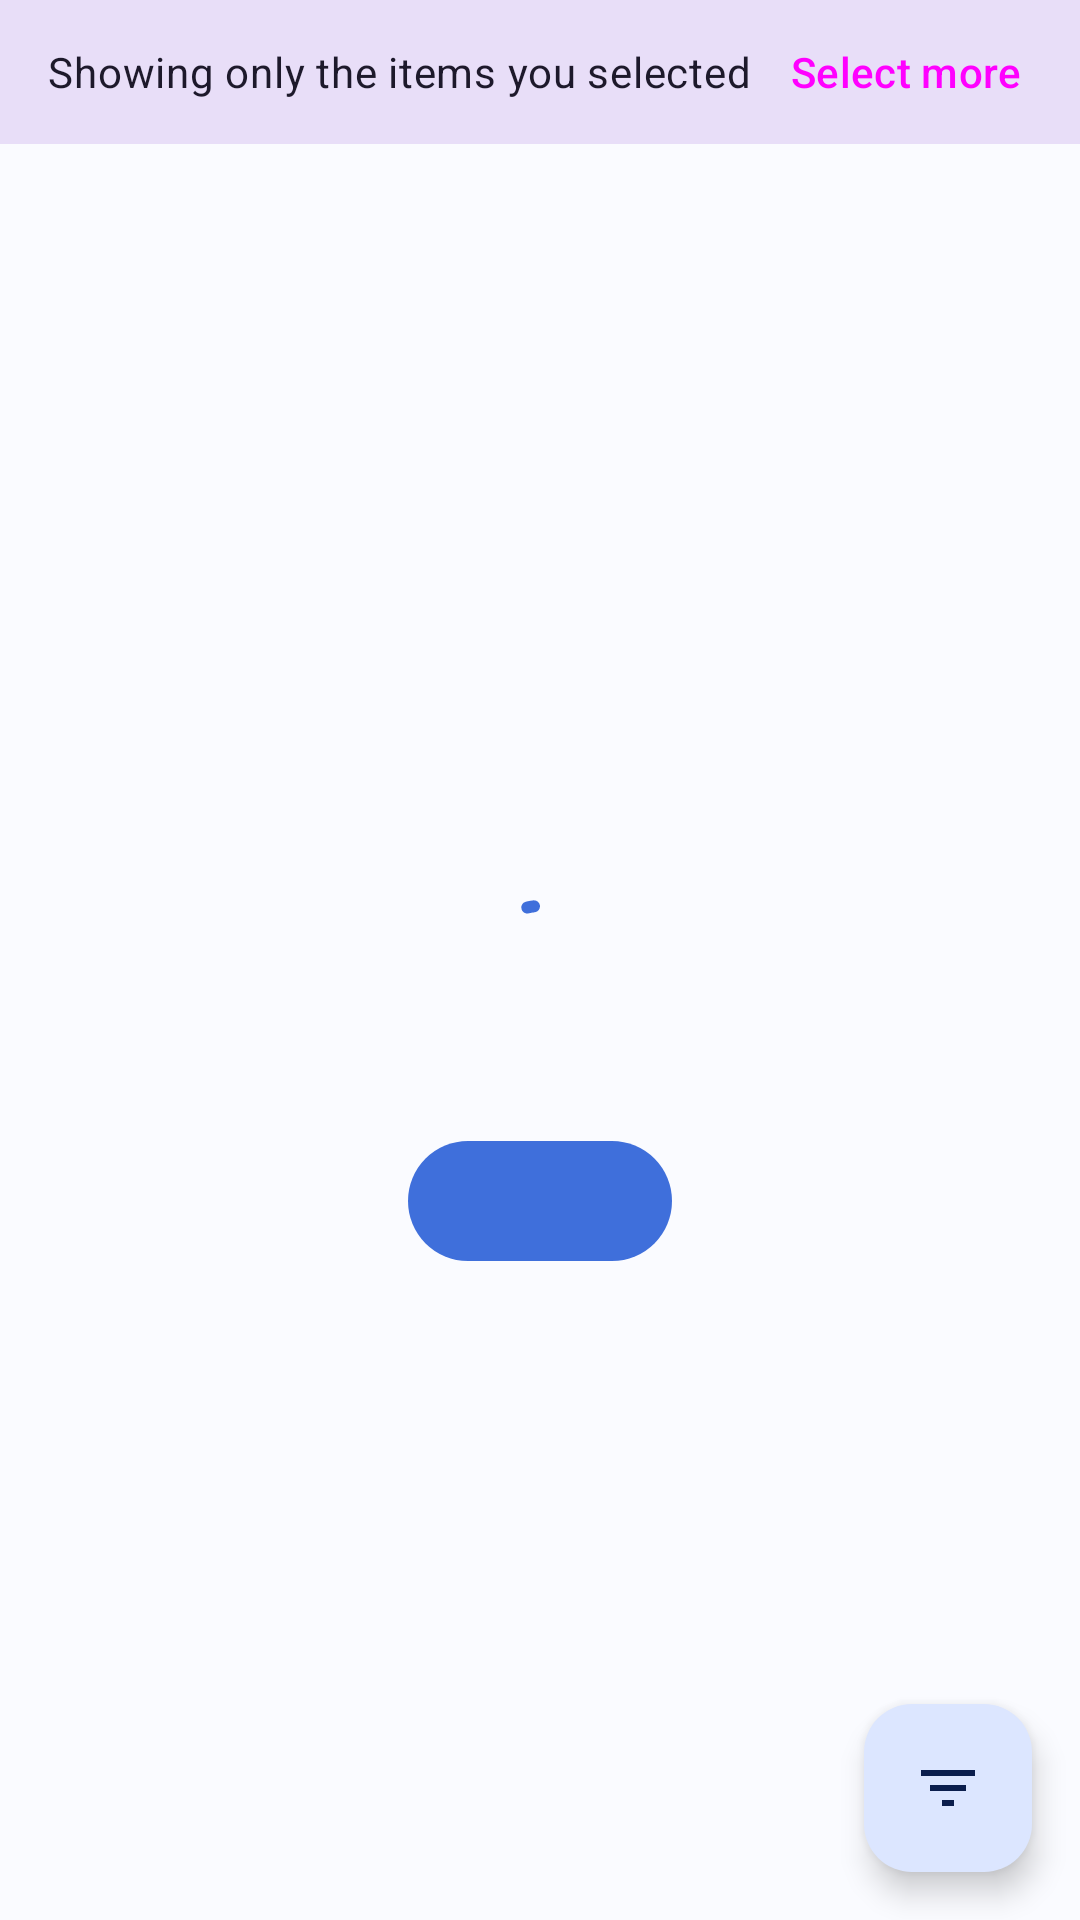

Icons on this 1080x1920 Android screen, each with the point to tap as (x=x, y=y):
Filter media: (x=948, y=1788)
